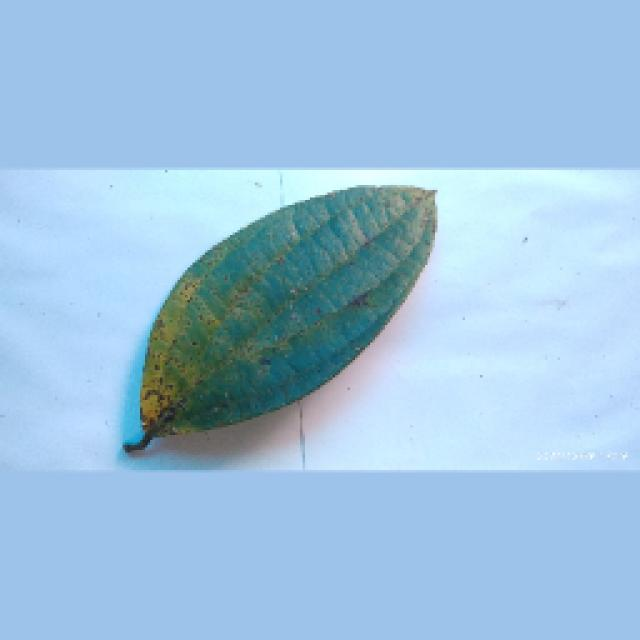slow-decline: (120, 178, 440, 448)
